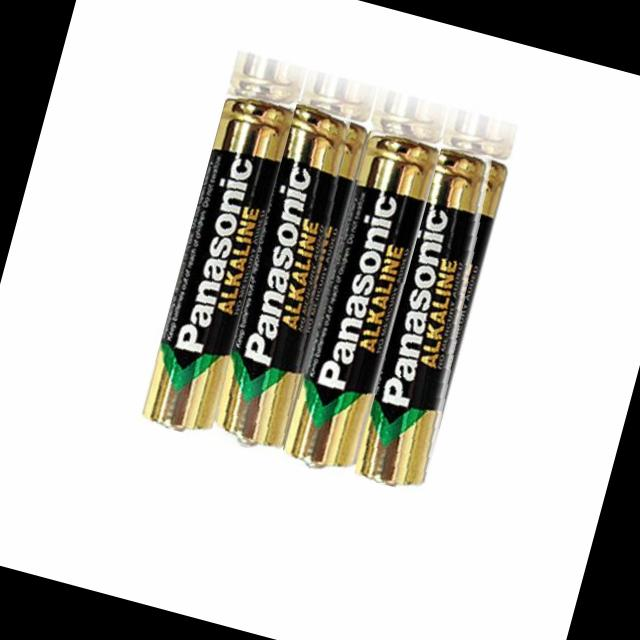Hazard: (279, 117, 443, 478), (206, 99, 371, 457), (349, 141, 514, 494), (138, 79, 300, 438)
